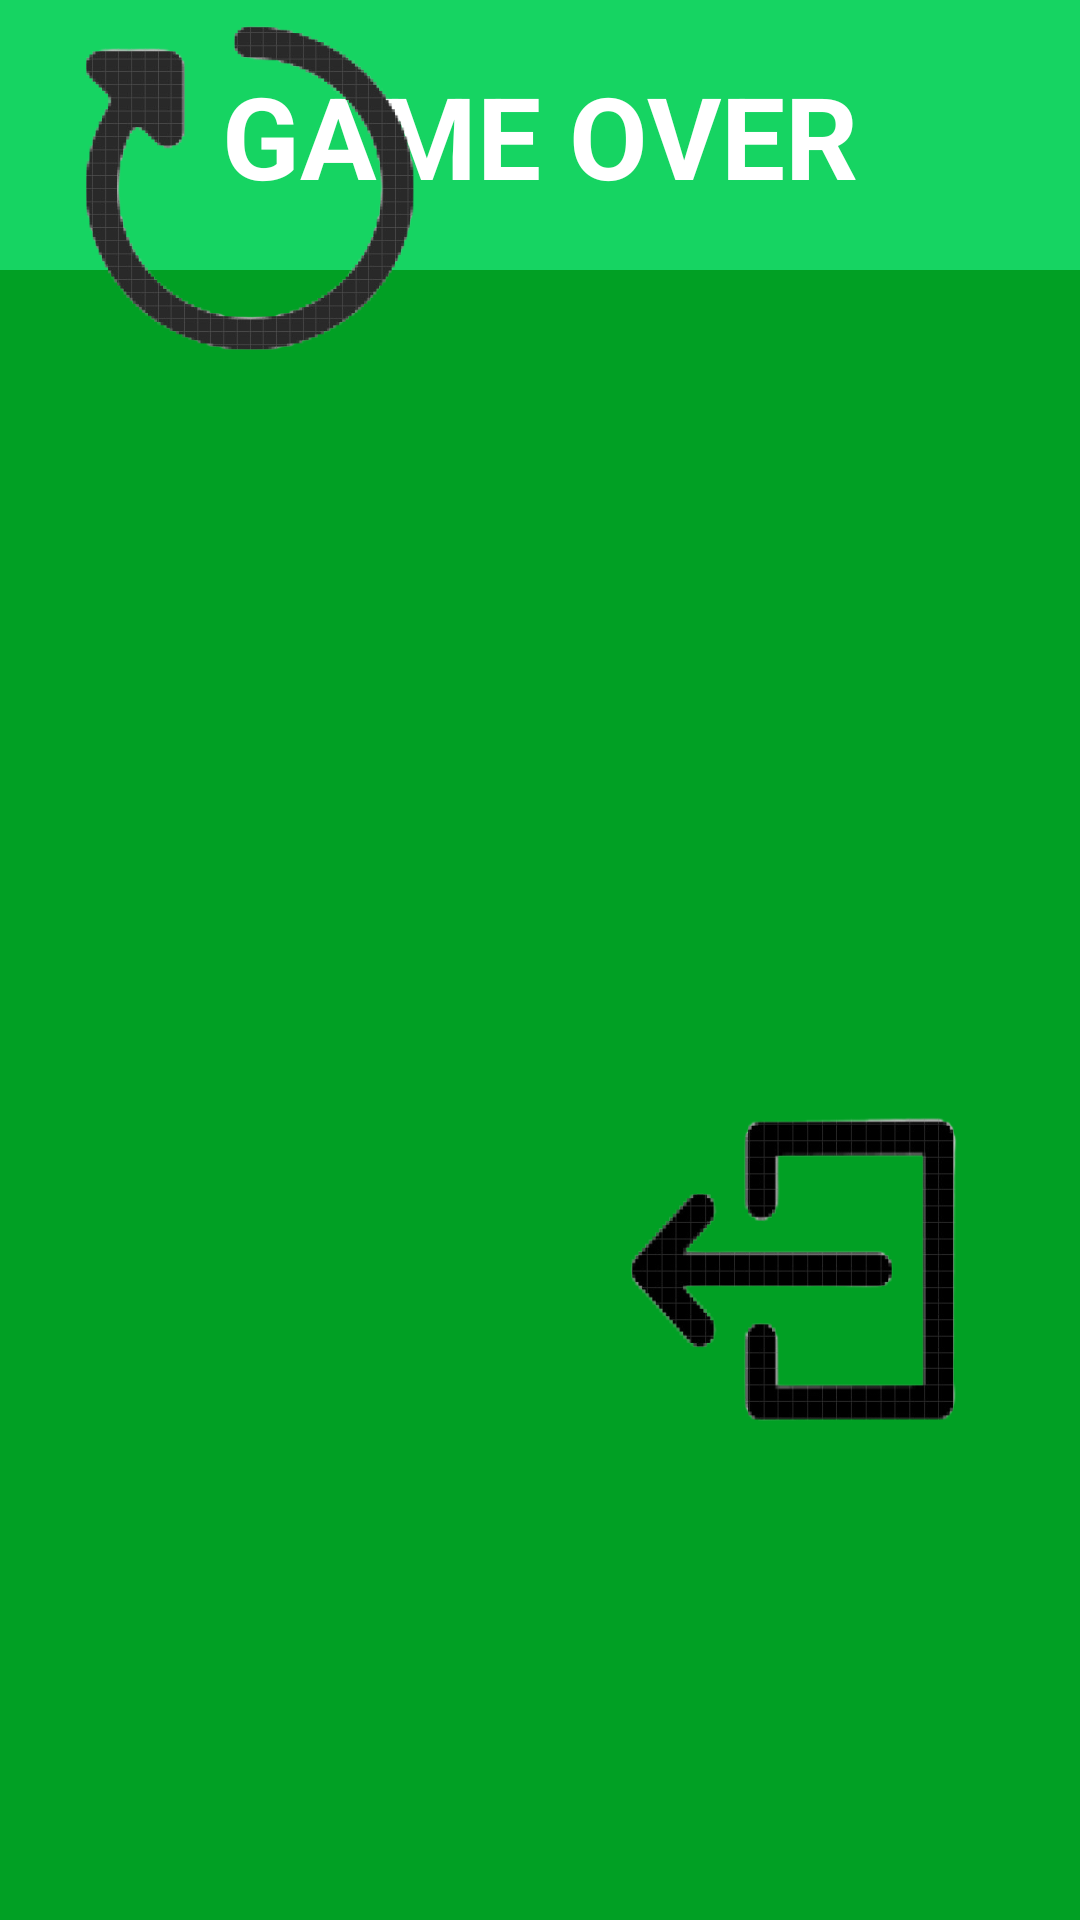

Named icons in this screenshot (1080 x 1920) and their centers, (x,y):
exiticon: (793,1269)
